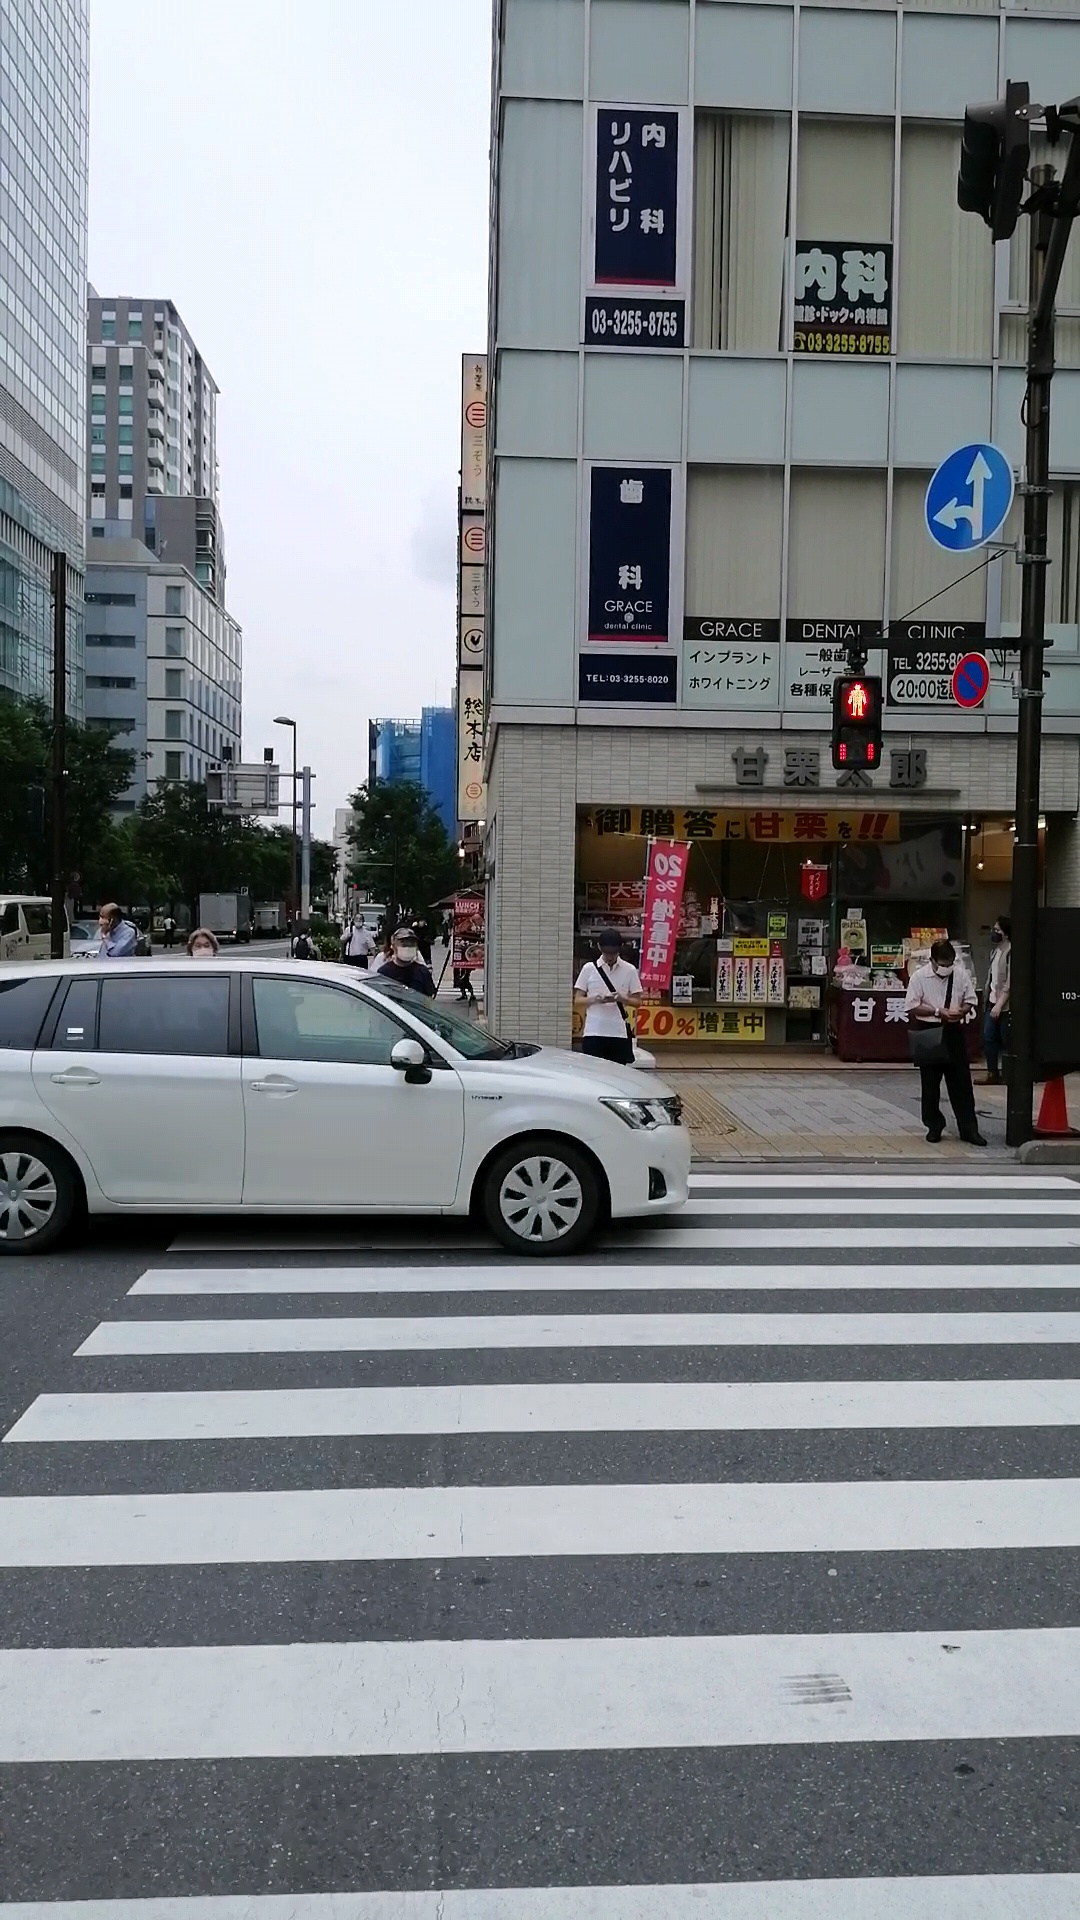red: (832, 675, 882, 769)
